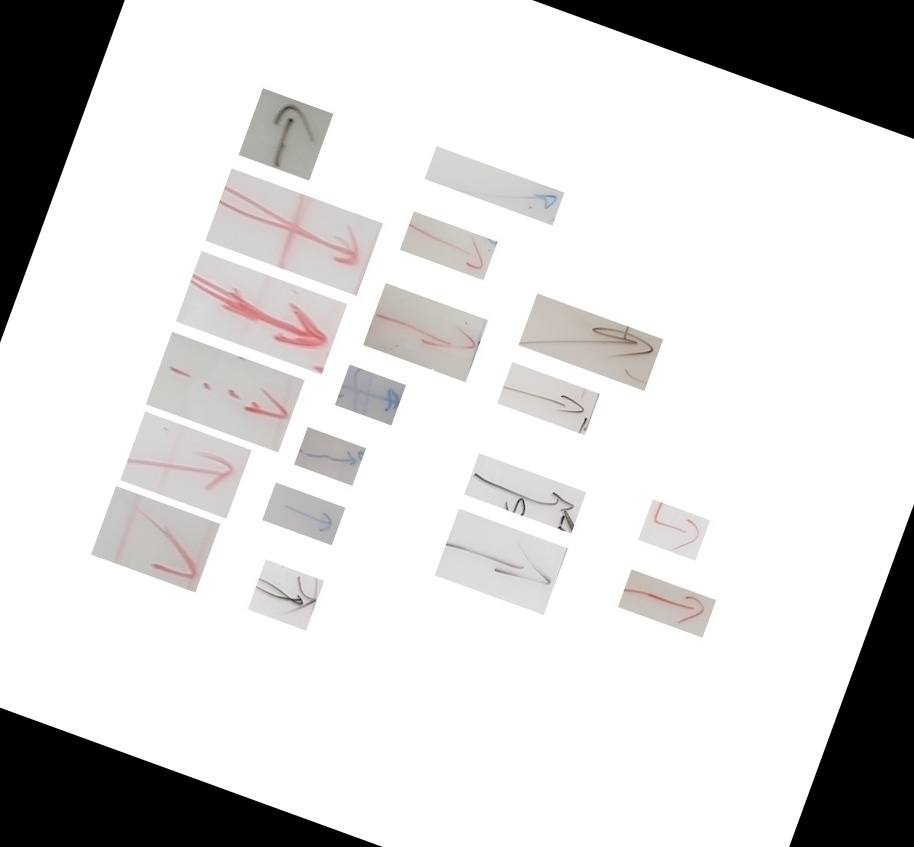arrow: (231, 184, 380, 301), (228, 282, 340, 383), (235, 104, 359, 190), (556, 312, 663, 407), (464, 528, 563, 618), (204, 367, 302, 454), (393, 306, 487, 392), (155, 438, 245, 522), (492, 471, 586, 544), (141, 509, 215, 600), (418, 223, 500, 294), (522, 375, 596, 447), (643, 587, 714, 648), (285, 500, 347, 560), (501, 182, 565, 239), (270, 575, 323, 642), (357, 380, 409, 440), (313, 442, 366, 497), (666, 519, 710, 572)
